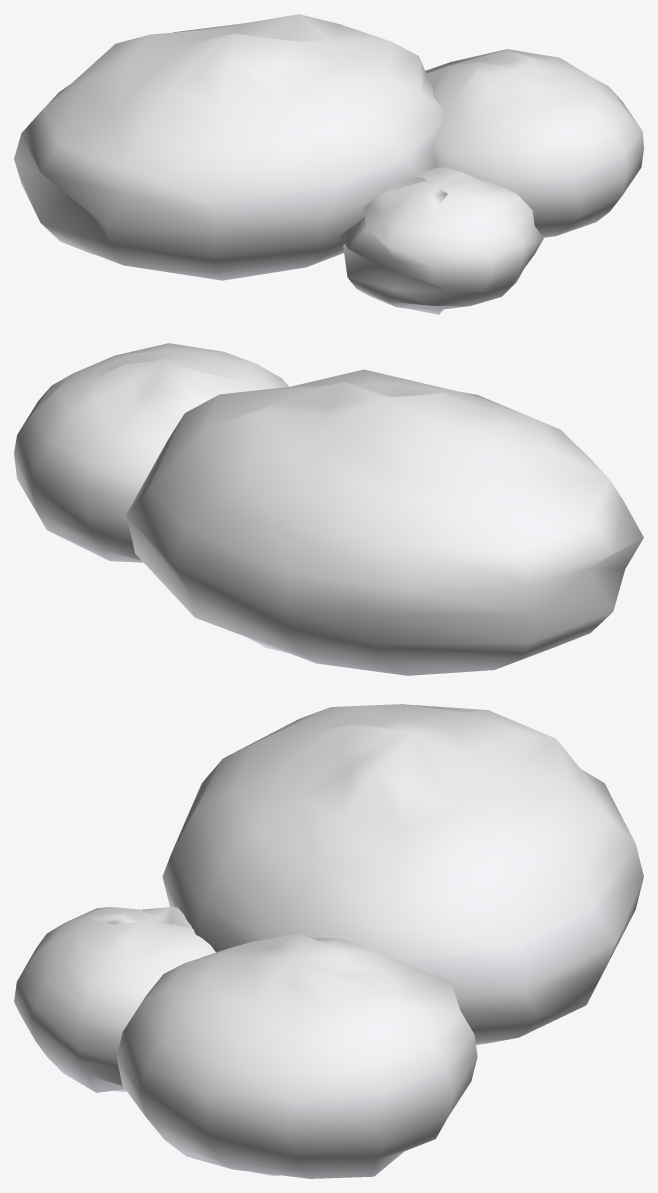
Rendered from bush-64_col.fbx.
The picture shows the model from 3 angles, top to bottom: view 1: azimuth 30°, elevation 25°; view 2: azimuth 150°, elevation 25°; view 3: azimuth 270°, elevation 25°; orthographic projection. The views are drawn at different scales.
Parts seen in each view (by area): view 1: bush-64.col; view 2: bush-64.col; view 3: bush-64.col.
Part boxes in pixels (bbox=[...]): bush-64.col: bbox=[14, 14, 643, 314]; bush-64.col: bbox=[14, 343, 643, 675]; bush-64.col: bbox=[14, 704, 643, 1178].
Bounding box in the file's own units: 0.4291 × 0.1661 × 0.3312.
1 material, 1 textured.
